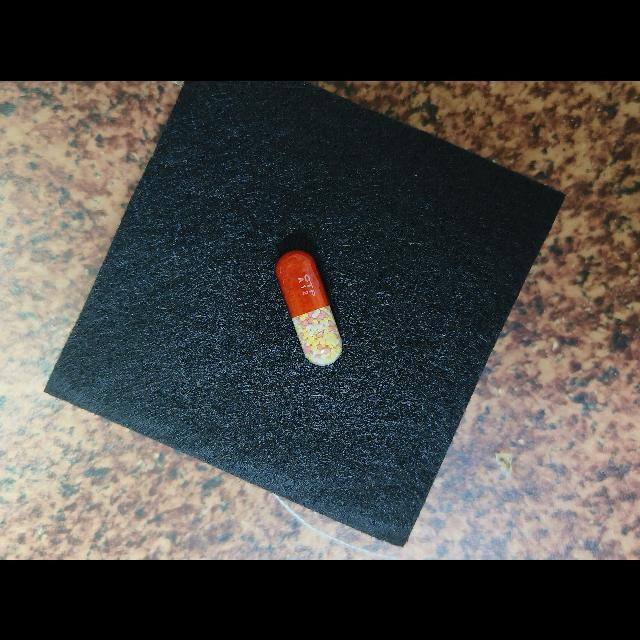Intact Capsule: (275, 249, 343, 365)
